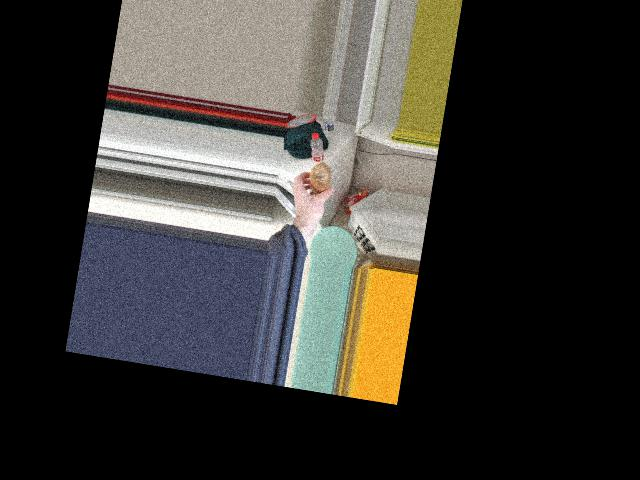sweet_potato: (301, 161, 335, 201)
